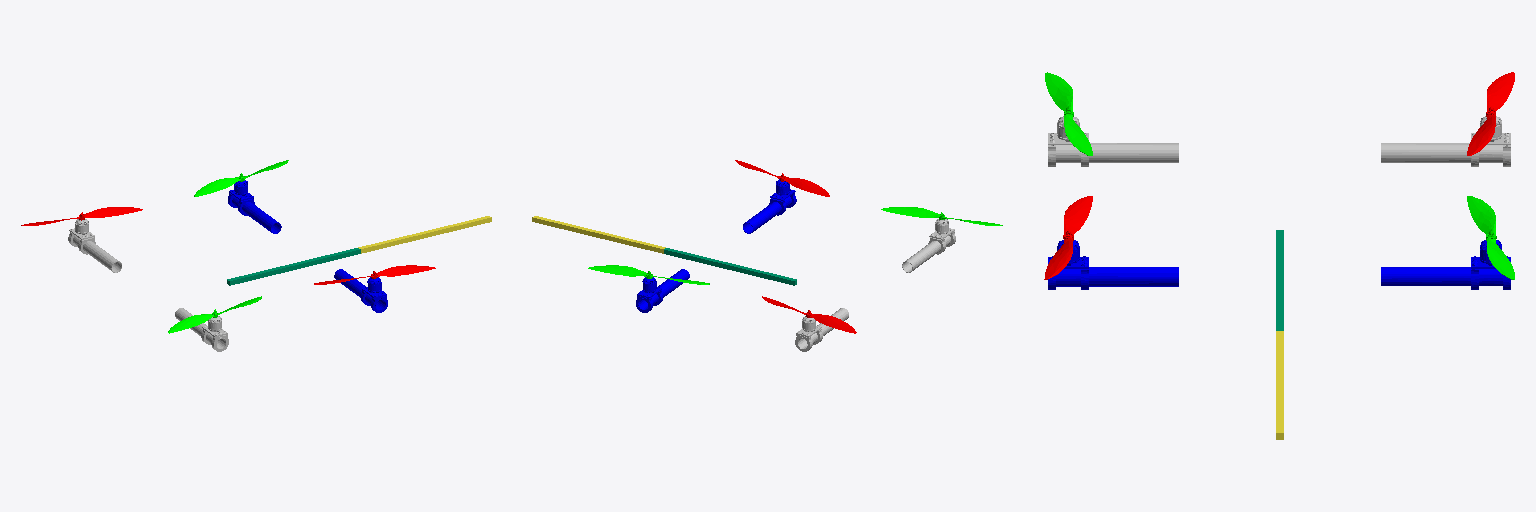
robot.urdf — lophorina:
<?xml version="1.0"?>
<robot name="lophorina">

  <material name="gray">
    <color rgba="0.8 0.8 0.8 1"/>
  </material>

  <material name="blue">
    <color rgba="0 0 1 1"/>
  </material>

  <material name="black">
    <color rgba="0 0 0 1"/>
  </material>

  <material name="red">
    <color rgba="1 0 0 1"/>
  </material>

  <material name="green">
    <color rgba="0 1 0 1"/>
  </material>

  <link name="odom">  
  </link>  

  <joint name="odom_to_base_link" type="fixed">
    <parent link="odom"/>
    <child link="base_link"/>
  </joint>

  <link name="base_link">
    <visual>
      <geometry>
        <mesh filename="package://lophorina/meshes/robot_body.stl" scale="0.001 0.001 0.001"/>
      </geometry>
      <origin rpy="0 0 1.57079632679"/>
      <material name="black"/>
    </visual>
    <collision>
      <geometry>
        <box size="0.5 0.8 0.1"/>
      </geometry>
    </collision>
    <inertial>
	  <!-- Volume:  1.2327948124e+06 -->
	  <mass value="1.5"/>

	  <!-- Center of mass:  1.4152750000e-02  7.9666542000e-01  2.5105856930e+01 -->
	  <pose>  1.4152750000e-02  7.9666542000e-01  2.5105856930e+01 0 0 0 </pose>

	  <!-- Inertia matrix -->
	  <inertia
	    ixx="4.1954149681e+04"
	    ixy="1.6912509242e-02"
	    ixz="2.2605965587e-03"
	    iyy="6.8166425968e+03"
	    iyz="-2.2634978773e+00"
	    izz="4.8089728649e+04"/>
	  
   </inertial>
  </link>

  <link name="arm0">
    <visual>
      <geometry>
         <box size="0.3 0.01 0.01"/>
      </geometry>
      <origin xyz="0.15 0 0"/>
    </visual>
  </link>

  <joint name="base_link_to_arm0" type="revolute">
    <limit effort="1000.0" velocity="0.5" lower="0" upper="0.78539816339"/>
    <parent link="base_link"/>
    <child link="arm0"/>
    <axis xyz="0 1 0"/>
    <origin xyz="0 0 0"/>
  </joint>

  <link name="arm1">
    <visual>
      <geometry>
         <box size="0.3 0.01 0.01"/>
      </geometry>
      <origin xyz="0.15 0 0"/>
    </visual>
  </link>

  <joint name="base_link_to_arm1" type="revolute">
    <limit effort="1000.0" velocity="0.5" lower="0" upper="0.78539816339"/>
    <parent link="arm0"/>
    <child link="arm1"/>
    <axis xyz="0 -1 0"/>
    <origin xyz="0.3 0 0"/>
  </joint>

  <link name="motor_front_right">
    <visual>
      <geometry>
        <mesh filename="package://lophorina/meshes/tilt_motor.stl" scale="0.001 0.001 0.001"/>
      </geometry>
      <material name="blue"/>
      <origin rpy="0 0 1.57079632679" xyz="0 0 0"/>
    </visual>
    <inertial>
	  <!-- Volume:  4.3863842816e+04 -->
	  <mass value="0.15"/>

	  <!-- Center of mass:  1.1607480469e+02  1.2213770750e+01  1.8455069580e+01 -->
	  <pose>  1.1607480469e+02  1.2213770750e+01  1.8455069580e+01 0 0 0 </pose>

	  <!-- Inertia matrix -->
	  <inertia
	    ixx="6.5199681921e+01"
	    ixy="-1.8406174301e+00"
	    ixz="-4.4278584689e+01"
	    iyy="2.7135930913e+02"
	    iyz="-5.5408063591e-01"
	    izz="2.2968739432e+02"/>
	  
    </inertial>
  </link>

  <link name="motor_front_left">
    <visual>
      <geometry>
        <mesh filename="package://lophorina/meshes/tilt_motor.stl" scale="0.001 0.001 0.001"/>
      </geometry>
      <material name="blue"/>
      <origin rpy="0 0 -1.57079632679" xyz="0 0 0"/>
    </visual>
   <inertial>
	  <!-- Volume:  4.3863842816e+04 -->
	  <mass value="0.15"/>

	  <!-- Center of mass:  1.1607480469e+02  1.2213770750e+01  1.8455069580e+01 -->
	  <pose>  1.1607480469e+02  1.2213770750e+01  1.8455069580e+01 0 0 0 </pose>

	  <!-- Inertia matrix -->
	  <inertia
	    ixx="6.5199681921e+01"
	    ixy="-1.8406174301e+00"
	    ixz="-4.4278584689e+01"
	    iyy="2.7135930913e+02"
	    iyz="-5.5408063591e-01"
	    izz="2.2968739432e+02"/>
	
   </inertial>
  </link>

  <link name="motor_back_right">
    <visual>
      <geometry>
        <mesh filename="package://lophorina/meshes/tilt_motor.stl" scale="0.001 0.001 0.001"/>
      </geometry>
      <material name="gray"/>
      <origin rpy="0 0 1.57079632679" xyz="0 0 0"/>
    </visual>
    <inertial>
	  <!-- Volume:  4.3863842816e+04 -->
	  <mass value="0.15"/>

	  <!-- Center of mass:  1.1607480469e+02  1.2213770750e+01  1.8455069580e+01 -->
	  <pose>  1.1607480469e+02  1.2213770750e+01  1.8455069580e+01 0 0 0 </pose>

	  <!-- Inertia matrix -->
	  <inertia
	    ixx="6.5199681921e+01"
	    ixy="-1.8406174301e+00"
	    ixz="-4.4278584689e+01"
	    iyy="2.7135930913e+02"
	    iyz="-5.5408063591e-01"
	    izz="2.2968739432e+02"/>
	  
</inertial>
  </link>

  <link name="motor_back_left">
    <visual>
      <geometry>
        <mesh filename="package://lophorina/meshes/tilt_motor.stl" scale="0.001 0.001 0.001"/>
      </geometry>
      <material name="gray"/>
      <origin rpy="0 0 -1.57079632679" xyz="0 0 0"/>
    </visual>
    <inertial>
	  <!-- Volume:  4.3863842816e+04 -->
	  <mass value="0.15"/>

	  <!-- Center of mass:  1.1607480469e+02  1.2213770750e+01  1.8455069580e+01 -->
	  <pose>  1.1607480469e+02  1.2213770750e+01  1.8455069580e+01 0 0 0 </pose>

	  <!-- Inertia matrix -->
	  <inertia
	    ixx="6.5199681921e+01"
	    ixy="-1.8406174301e+00"
	    ixz="-4.4278584689e+01"
	    iyy="2.7135930913e+02"
	    iyz="-5.5408063591e-01"
	    izz="2.2968739432e+02"/>
	  
   </inertial>
  </link>

  <link name="front_right_propeller">
    <visual>
      <geometry>
        <mesh filename="package://lophorina/meshes/cw_propeller.stl" scale="0.001 0.001 0.001"/>
      </geometry>
      <origin xyz="0 0 0"/>
      <material name="green"/>
    </visual>
    <inertial>
	  <!-- Volume:  6.4020546560e+03 -->
	  <mass value="0.008"/>

	  <!-- Center of mass: -7.6309433000e-01 -1.5900170000e-02  5.6214502000e+00 -->
	  <pose> -7.6309433000e-01 -1.5900170000e-02  5.6214502000e+00 0 0 0 </pose>

	  <!-- Inertia matrix -->
	  <inertia
	    ixx="1.0083531730e+00"
	    ixy="-4.9698650900e+00"
	    ixz="-1.5181902820e-02"
	    iyy="3.3832505747e+01"
	    iyz="-1.8549383658e-03"
	    izz="3.4773160227e+01"/>
	  
   </inertial>
  </link>
  <gazebo reference="front_right_propeller">
    <material>Gazebo/Orange</material>
  </gazebo>
  <plugin name="front_right_propeller_liftDrag" filename="libLiftDragPlugin.so">
        <a0>0.4</a0>
        <cla>4.752798721</cla>
        <cda>0.6417112299</cda>
        <cma>0</cma>
        <alpha_stall>1.5</alpha_stall>
        <cla_stall>-3.85</cla_stall>
        <cda_stall>-0.9233984055</cda_stall>
        <cma_stall>0</cma_stall>
        <cp>-0.37 0 0.77</cp>
        <area>0.1</area>
        <air_density>1.2041</air_density>
        <forward>1 0 0</forward>
        <upward>0 0 1</upward>
        <link_name>front_right_propeller</link_name>
  </plugin>
  <link name="front_left_propeller">
    <visual>
      <geometry>
        <mesh filename="package://lophorina/meshes/ccw_propeller.stl" scale="0.001 0.001 0.001"/>
      </geometry>
      <material name="red"/>
    </visual>
    <inertial>
	     <!-- Volume:  6.4020546560e+03 -->
	     <mass value="0.008"/>

	     <!-- Center of mass: -1.2450975000e+00  4.7389927000e-01  5.6214502000e+00 -->
	     <pose> -1.2450975000e+00  4.7389927000e-01  5.6214502000e+00 0 0 0 </pose>

	     <!-- Inertia matrix -->
	     <inertia
	       ixx="1.0083529717e+00"
	       ixy="4.9698656267e+00"
	       ixz="-1.5182323164e-02"
	       iyy="3.3832507894e+01"
	       iyz="1.8549094082e-03"
	       izz="3.4773160227e+01"/>
	     
   </inertial>
  </link>
  <plugin name="front_left_propeller_liftDrag" filename="libLiftDragPlugin.so">
        <a0>0.4</a0>
        <cla>4.752798721</cla>
        <cda>0.6417112299</cda>
        <cma>0</cma>
        <alpha_stall>1.5</alpha_stall>
        <cla_stall>-3.85</cla_stall>
        <cda_stall>-0.9233984055</cda_stall>
        <cma_stall>0</cma_stall>
        <cp>-0.37 0 0.77</cp>
        <area>0.1</area>
        <air_density>1.2041</air_density>
        <forward>1 0 0</forward>
        <upward>0 0 1</upward>
        <link_name>front_left_propeller</link_name>
  </plugin>
  <link name="back_left_propeller">
    <visual>
      <geometry>
        <mesh filename="package://lophorina/meshes/cw_propeller.stl" scale="0.001 0.001 0.001"/>
      </geometry>
      <material name="green"/>
    </visual>
    <inertial>
	  <!-- Volume:  6.4020546560e+03 -->
	  <mass value="0.008"/>

	  <!-- Center of mass: -7.6309433000e-01 -1.5900170000e-02  5.6214502000e+00 -->
	  <pose> -7.6309433000e-01 -1.5900170000e-02  5.6214502000e+00 0 0 0 </pose>

	  <!-- Inertia matrix -->
	  <inertia
	    ixx="1.0083531730e+00"
	    ixy="-4.9698650900e+00"
	    ixz="-1.5181902820e-02"
	    iyy="3.3832505747e+01"
	    iyz="-1.8549383658e-03"
	    izz="3.4773160227e+01"/>
	  
   </inertial>
  </link>
  <plugin name="back_left_propeller_liftDrag" filename="libLiftDragPlugin.so">
        <a0>0.4</a0>
        <cla>4.752798721</cla>
        <cda>0.6417112299</cda>
        <cma>0</cma>
        <alpha_stall>1.5</alpha_stall>
        <cla_stall>-3.85</cla_stall>
        <cda_stall>-0.9233984055</cda_stall>
        <cma_stall>0</cma_stall>
        <cp>-0.37 0 0.77</cp>
        <area>0.1</area>
        <air_density>1.2041</air_density>
        <forward>1 0 0</forward>
        <upward>0 0 1</upward>
        <link_name>back_left_propeller</link_name>
  </plugin>
  <link name="back_right_propeller">
    <visual>
      <geometry>
        <mesh filename="package://lophorina/meshes/ccw_propeller.stl" scale="0.001 0.001 0.001"/>
      </geometry>
      <material name="red"/>
    </visual>
    <inertial>
	<!-- Volume:  6.4020546560e+03 -->
	<mass value="0.008"/>

	<!-- Center of mass: -1.2450975000e+00  4.7389927000e-01  5.6214502000e+00 -->
	<pose> -1.2450975000e+00  4.7389927000e-01  5.6214502000e+00 0 0 0 </pose>

	<!-- Inertia matrix -->
	<inertia
	 ixx="1.0083529717e+00"
	    ixy="4.9698656267e+00"
	    ixz="-1.5182323164e-02"
	    iyy="3.3832507894e+01"
	    iyz="1.8549094082e-03"
	    izz="3.4773160227e+01"/>
	
   </inertial>
  </link>
  <plugin name="back_right_propeller_liftDrag" filename="libLiftDragPlugin.so">
        <a0>0.4</a0>
        <cla>4.752798721</cla>
        <cda>0.6417112299</cda>
        <cma>0</cma>
        <alpha_stall>1.5</alpha_stall>
        <cla_stall>-3.85</cla_stall>
        <cda_stall>-0.9233984055</cda_stall>
        <cma_stall>0</cma_stall>
        <cp>-0.37 0 0.77</cp>
        <area>0.1</area>
        <air_density>1.2041</air_density>
        <forward>1 0 0</forward>
        <upward>0 0 1</upward>
        <link_name>back_right_propeller</link_name>
  </plugin>
  <joint name="base_link_to_motor_front_right" type="revolute">
    <limit effort="1000.0" velocity="0.5" lower="-0.78539816339" upper="0.78539816339"/>
    <parent link="base_link"/>
    <child link="motor_front_right"/>
    <axis xyz="0 1 0"/>
    <origin xyz="0.1825 0.126 0.025"/>
  </joint>

  <transmission name="base_link_to_motor_front_right_trans">
    <type>transmission_interface/SimpleTransmission</type>
    <actuator name="$base_link_to_motor_front_right_motor">
      <mechanicalReduction>1</mechanicalReduction>
    </actuator>
    <joint name="base_link_to_motor_front_right">
      <hardwareInterface>hardware_interface/PositionJointInterface</hardwareInterface>
    </joint>
  </transmission>

  <joint name="base_link_to_motor_front_left" type="revolute">
    <limit effort="1000.0" velocity="0.5" lower="-0.78539816339" upper="0.78539816339"/>
    <parent link="base_link"/>
    <child link="motor_front_left"/>
    <axis xyz="0 1 0"/>
    <origin xyz="0.1825 -0.126 0.025"/>
  </joint>

  <transmission name="base_link_to_motor_front_left_trans">
    <type>transmission_interface/SimpleTransmission</type>
    <actuator name="$base_link_to_motor_front_left_motor">
      <mechanicalReduction>1</mechanicalReduction>
    </actuator>
    <joint name="base_link_to_motor_front_left">
      <hardwareInterface>hardware_interface/PositionJointInterface</hardwareInterface>
    </joint>
  </transmission>

  <joint name="base_link_to_motor_back_right" type="revolute">
    <limit effort="1000.0" velocity="0.5" lower="-0.78539816339" upper="0.78539816339"/>
    <parent link="base_link"/>
    <child link="motor_back_right"/>
    <axis xyz="0 1 0"/>
    <origin xyz="-0.1825 0.126 0.025"/>
  </joint>

  <transmission name="base_link_to_motor_back_right_trans">
    <type>transmission_interface/SimpleTransmission</type>
    <actuator name="$base_link_to_motor_back_right_motor">
      <mechanicalReduction>1</mechanicalReduction>
    </actuator>
    <joint name="base_link_to_motor_back_right">
      <hardwareInterface>hardware_interface/PositionJointInterface</hardwareInterface>
    </joint>
  </transmission>

  <joint name="base_link_to_motor_back_left" type="revolute">
    <limit effort="1000.0" velocity="0.5" lower="-0.78539816339" upper="0.78539816339"/>
    <parent link="base_link"/>
    <child link="motor_back_left"/>
    <axis xyz="0 1 0"/>
    <origin xyz="-0.1825 -0.126 0.025"/>
  </joint>

  <transmission name="base_link_to_motor_back_left_trans">
    <type>transmission_interface/SimpleTransmission</type>
    <actuator name="$base_link_to_motor_back_left_motor">
      <mechanicalReduction>1</mechanicalReduction>
    </actuator>
    <joint name="base_link_to_motor_back_left">
      <hardwareInterface>hardware_interface/PositionJointInterface</hardwareInterface>
    </joint>
  </transmission>

  <joint name="motor_front_right_to_front_right_propeller" type="continuous">
    <parent link="motor_front_right"/>
    <child link="front_right_propeller"/>
    <axis xyz="0 0 1"/>
    <origin xyz="0 0.138 0.05"/>
  </joint>

  <transmission name="motor_front_right_to_front_right_propeller_trans">
    <type>transmission_interface/SimpleTransmission</type>
    <actuator name="$motor_front_right_to_front_right_propeller_motor">
      <mechanicalReduction>1</mechanicalReduction>
    </actuator>
    <joint name="motor_front_right_to_front_right_propeller">
      <hardwareInterface>hardware_interface/VelocityJointInterface</hardwareInterface>
    </joint>
  </transmission>

  <joint name="motor_front_left_to_front_left_propeller" type="continuous">
    <parent link="motor_front_left"/>
    <child link="front_left_propeller"/>
    <axis xyz="0 0 1"/>
    <origin xyz="0 -0.138 0.05"/>
  </joint>

  <transmission name="motor_front_left_to_front_left_propeller_trans">
    <type>transmission_interface/SimpleTransmission</type>
    <actuator name="$motor_front_left_to_front_left_propeller_motor">
      <mechanicalReduction>1</mechanicalReduction>
    </actuator>
    <joint name="motor_front_left_to_front_left_propeller">
      <hardwareInterface>hardware_interface/VelocityJointInterface</hardwareInterface>
    </joint>
  </transmission>

  <joint name="motor_back_right_to_back_right_propeller" type="continuous">
    <parent link="motor_back_right"/>
    <child link="back_right_propeller"/>
    <axis xyz="0 0 1"/>
    <origin xyz="0 0.138 0.05"/>
  </joint>

  <transmission name="motor_back_right_to_back_right_propeller_trans">
    <type>transmission_interface/SimpleTransmission</type>
    <actuator name="$motor_back_right_to_back_right_propeller_motor">
      <mechanicalReduction>1</mechanicalReduction>
    </actuator>
    <joint name="motor_back_right_to_back_right_propeller">
      <hardwareInterface>hardware_interface/VelocityJointInterface</hardwareInterface>
    </joint>
  </transmission>

  <joint name="motor_back_left_to_back_left_propeller" type="continuous">
    <parent link="motor_back_left"/>
    <child link="back_left_propeller"/>
    <axis xyz="0 0 1"/>
    <origin xyz="0 -0.138 0.05"/>
  </joint>

  <transmission name="motor_back_left_to_back_left_propeller_trans">
    <type>transmission_interface/SimpleTransmission</type>
    <actuator name="$motor_back_left_to_back_left_propeller_motor">
      <mechanicalReduction>1</mechanicalReduction>
    </actuator>
    <joint name="motor_back_left_to_back_left_propeller">
      <hardwareInterface>hardware_interface/VelocityJointInterface</hardwareInterface>
    </joint>
  </transmission>

  <!-- Gazebo plugin for ROS Control -->
  <gazebo>
    <plugin name="gazebo_ros_control" filename="libgazebo_ros_control.so">
      <robotNamespace>/</robotNamespace>
    </plugin>
  </gazebo>

</robot>

--- Render facts (derived) ---
3 views of the same robot in one strip: view 1: azimuth 30°, elevation 25°; view 2: azimuth 150°, elevation 25°; view 3: azimuth 270°, elevation 25° (orthographic).
Robot: lophorina — 12 links, 11 joints (6 revolute, 4 continuous, 1 fixed); root link odom; default pose: every joint at zero.
Visible links, largest first — view 1: motor_back_right, motor_front_right, motor_front_left, arm0, arm1, motor_back_left, front_left_propeller, back_right_propeller, front_right_propeller, back_left_propeller; view 2: motor_back_left, motor_front_left, motor_front_right, arm0, arm1, motor_back_right, front_right_propeller, back_left_propeller, back_right_propeller, front_left_propeller; view 3: motor_front_left, motor_back_left, motor_back_right, motor_front_right, front_left_propeller, front_right_propeller, back_left_propeller, back_right_propeller, arm1, arm0.
Link boxes in pixels (left/top/right/bottom): motor_back_right: left=68, top=219, right=121, bottom=272; motor_front_right: left=228, top=180, right=281, bottom=233; motor_front_left: left=334, top=269, right=387, bottom=312; arm0: left=227, top=248, right=360, bottom=285; arm1: left=358, top=216, right=491, bottom=253; motor_back_left: left=175, top=308, right=228, bottom=351; front_left_propeller: left=314, top=265, right=435, bottom=284; back_right_propeller: left=21, top=207, right=142, bottom=225; front_right_propeller: left=194, top=160, right=288, bottom=196; back_left_propeller: left=168, top=296, right=261, bottom=333; motor_back_left: left=902, top=219, right=955, bottom=272; motor_front_left: left=743, top=179, right=796, bottom=233; motor_front_right: left=636, top=269, right=689, bottom=312; arm0: left=664, top=248, right=796, bottom=285; arm1: left=532, top=216, right=665, bottom=253; motor_back_right: left=795, top=308, right=848, bottom=351; front_right_propeller: left=588, top=265, right=709, bottom=284; back_left_propeller: left=881, top=207, right=1002, bottom=225; back_right_propeller: left=762, top=296, right=856, bottom=333; front_left_propeller: left=735, top=160, right=829, bottom=196; motor_front_left: left=1048, top=240, right=1178, bottom=289; motor_back_left: left=1048, top=116, right=1178, bottom=166; motor_back_right: left=1381, top=116, right=1510, bottom=166; motor_front_right: left=1381, top=240, right=1510, bottom=289; front_left_propeller: left=1044, top=196, right=1092, bottom=279; front_right_propeller: left=1467, top=196, right=1514, bottom=279; back_left_propeller: left=1045, top=72, right=1092, bottom=155; back_right_propeller: left=1467, top=72, right=1514, bottom=155; arm1: left=1276, top=331, right=1283, bottom=439; arm0: left=1276, top=230, right=1283, bottom=330.
Bounding box of the posed robot: 0.906 × 0.5885 × 0.0951 m (x, y, z).
Meshes: 4 distinct files referenced, 8 mesh visuals loaded (3 binary STL); not drawn: 1 (reference not matched to a file when rendering).